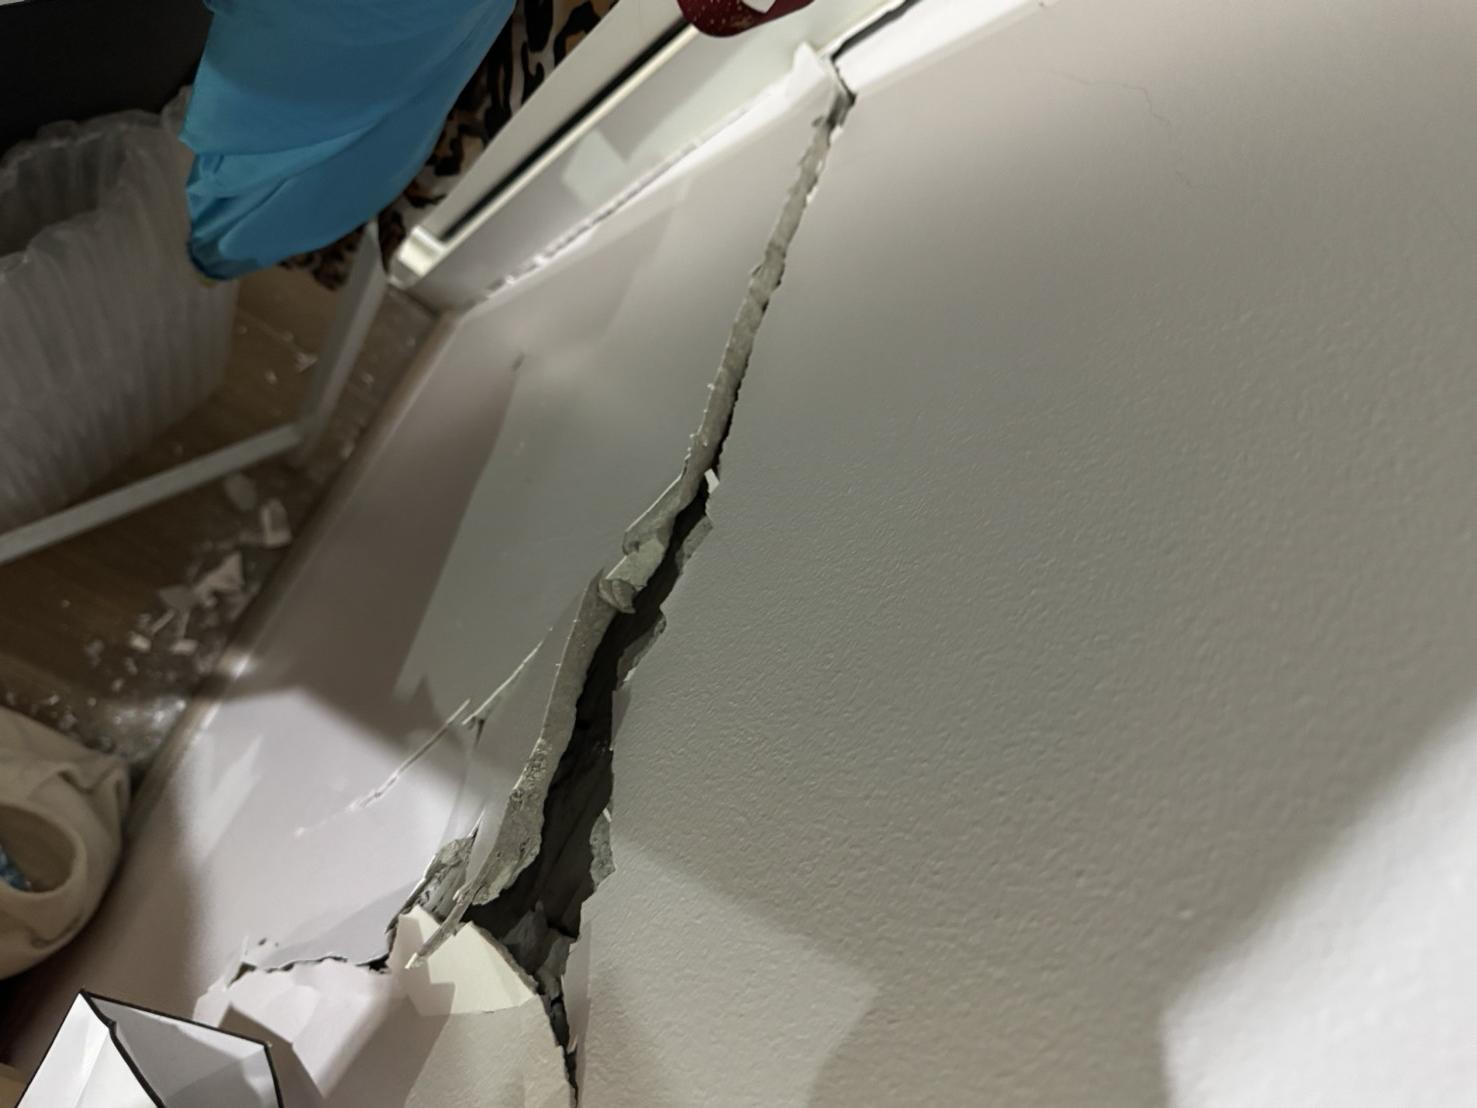Medium: (493, 192, 947, 544)
